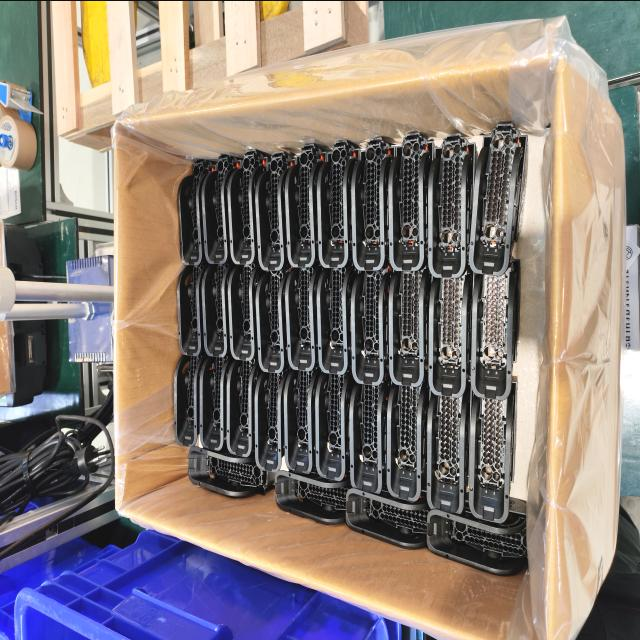P38: (469, 122, 529, 275), (426, 495, 528, 575), (470, 253, 521, 400), (428, 131, 479, 277), (468, 380, 517, 522), (428, 259, 475, 396), (388, 131, 434, 270), (426, 378, 473, 514), (389, 254, 434, 386), (387, 365, 431, 500), (351, 137, 395, 270), (349, 364, 393, 493), (317, 139, 361, 267), (351, 254, 393, 384), (345, 486, 430, 549), (187, 439, 274, 498), (285, 142, 326, 267), (317, 249, 358, 374), (255, 149, 297, 270), (315, 360, 355, 481), (284, 352, 322, 476), (227, 148, 267, 264), (285, 249, 323, 369), (274, 466, 352, 524), (201, 152, 240, 264), (254, 355, 291, 472), (178, 157, 217, 265), (256, 254, 291, 373), (228, 251, 264, 361), (226, 347, 262, 456), (199, 348, 234, 450), (176, 252, 209, 355), (202, 254, 235, 356), (174, 345, 206, 447)
